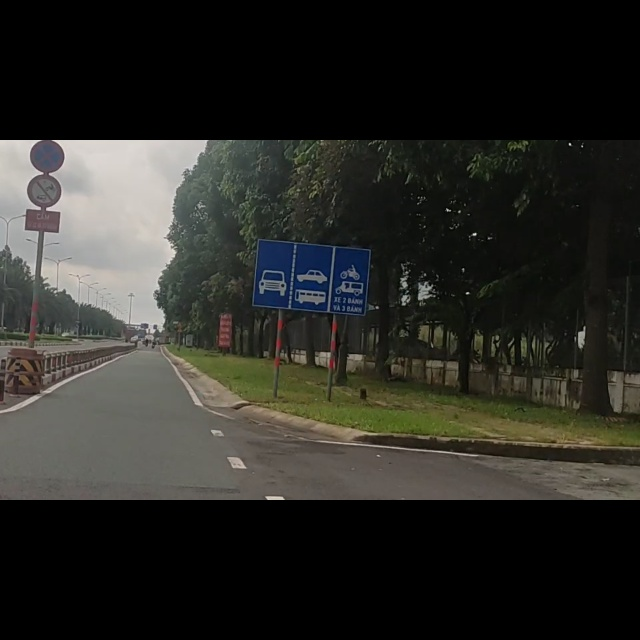bien_cam: (252, 172, 372, 315), (25, 58, 65, 120), (29, 2, 67, 55)
